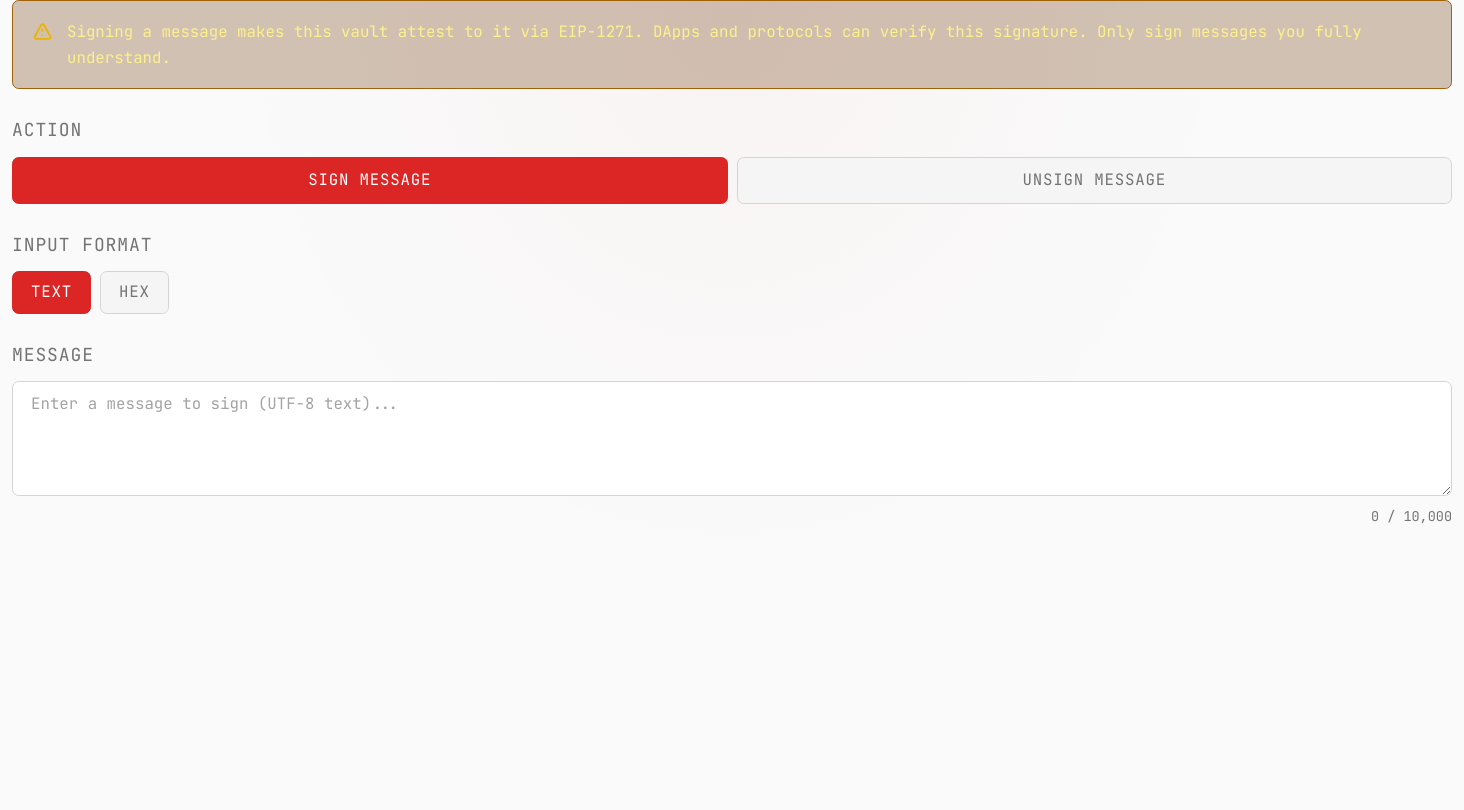
Test: SignMessageForm › invalid input › reports a malformed hex message in hex mode
The width and height of the screenshot is (1464, 810).
Click the button "Hex" at (134, 292), box left=100, top=271, right=169, bottom=314
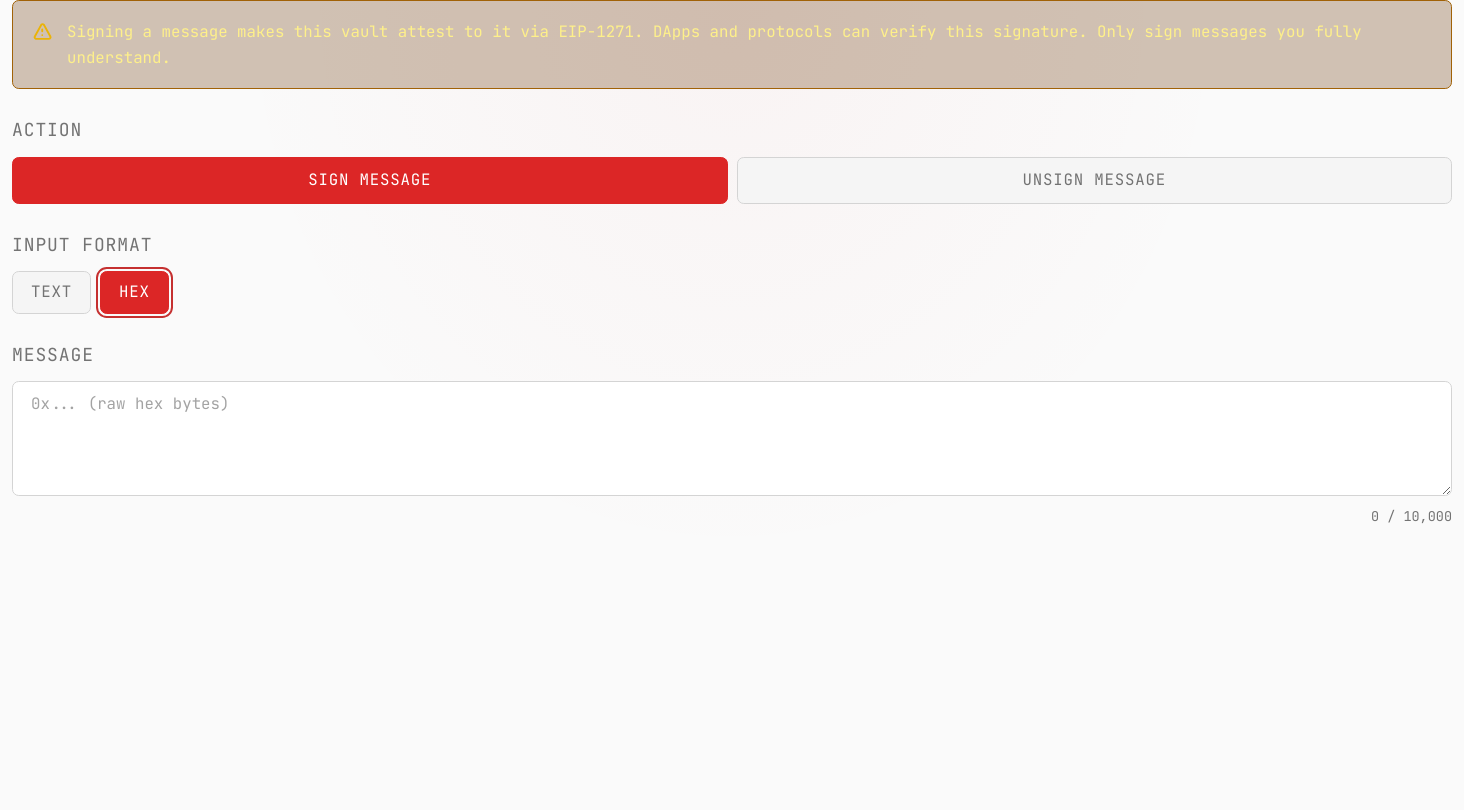
Type "not-hex" into the text box at (732, 438), box left=12, top=381, right=1452, bottom=496
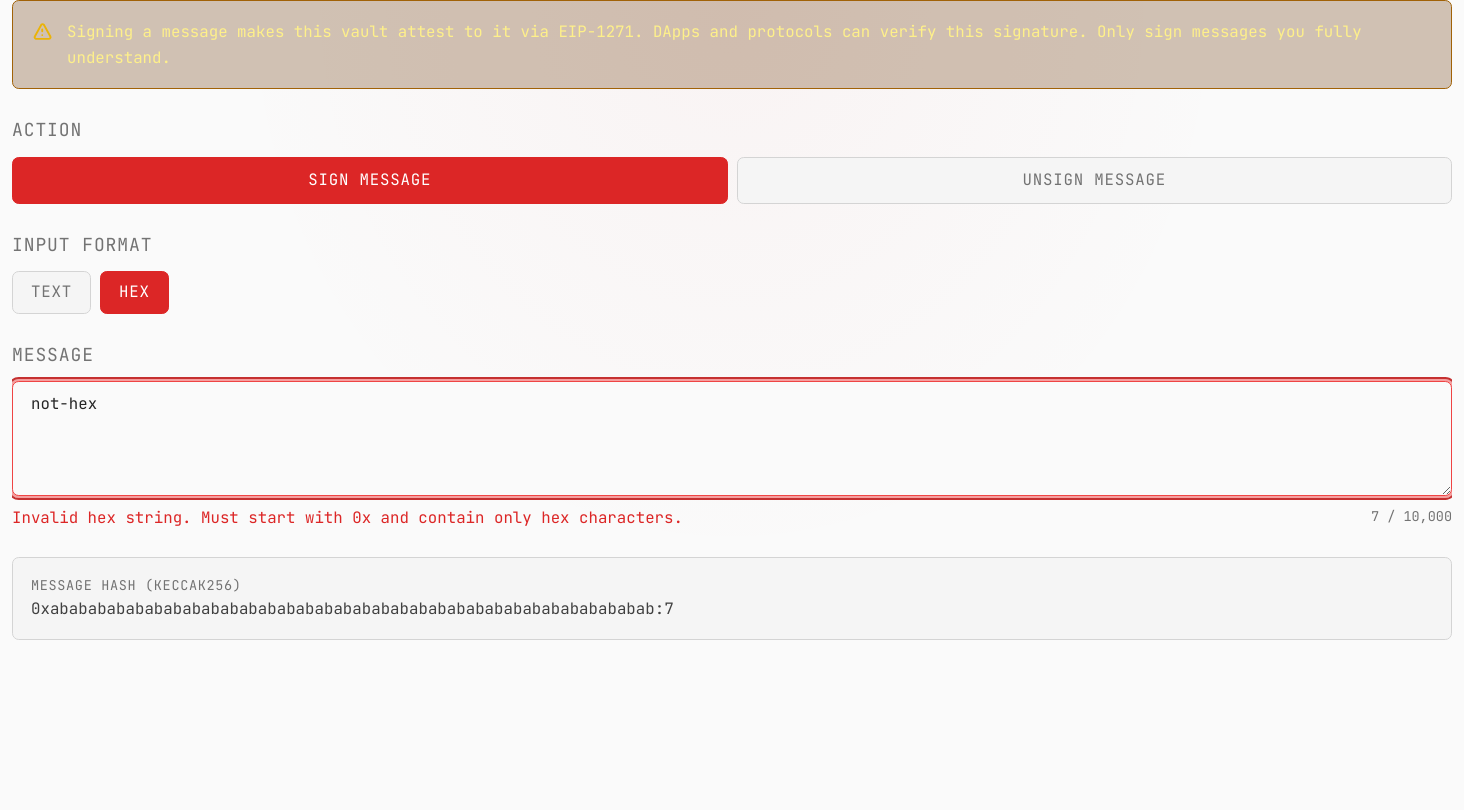
Check: the text "Invalid hex string" is shown, box left=12, top=507, right=683, bottom=528
